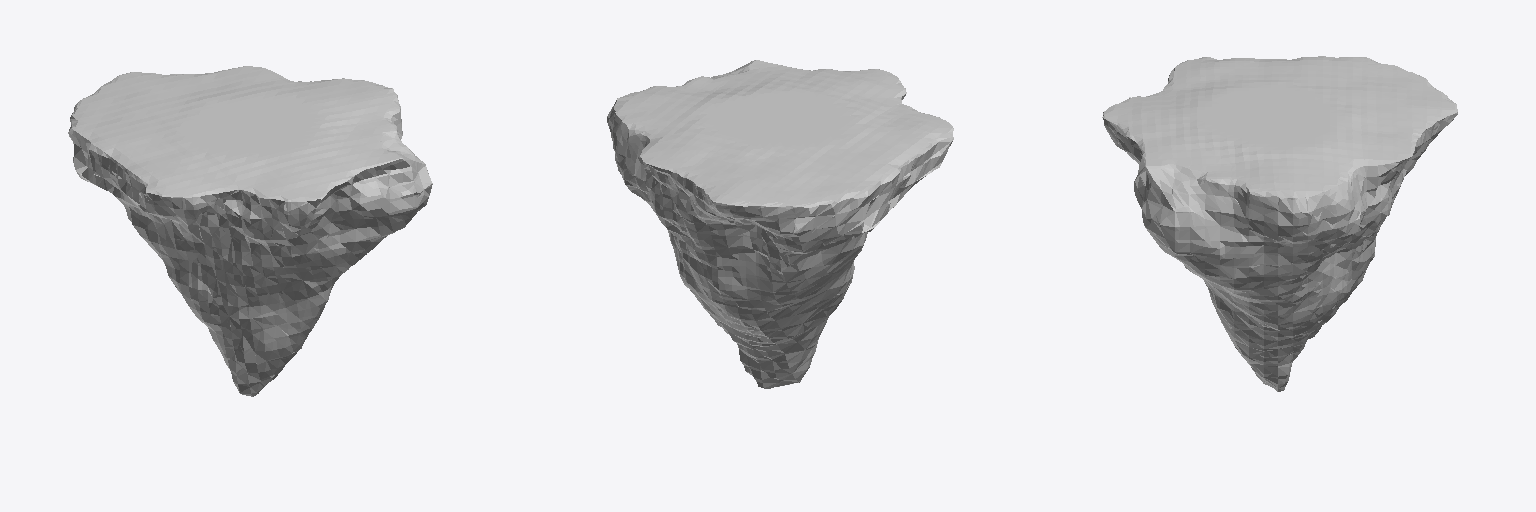
Rendered from IslandMisc_01.obj.
3 views of the same model, side by side, from view 1: azimuth 30°, elevation 25°; view 2: azimuth 150°, elevation 25°; view 3: azimuth 270°, elevation 25° (orthographic).
Parts seen in each view (by area): view 1: IslandMisc_01; view 2: IslandMisc_01; view 3: IslandMisc_01.
Boxes of the visible parts, box(x1,y1,x2,y2) form: IslandMisc_01: box(68, 66, 432, 396); IslandMisc_01: box(607, 60, 953, 388); IslandMisc_01: box(1102, 56, 1457, 391).
Size of the model in its own units: 23.28 by 20.18 by 24.19.